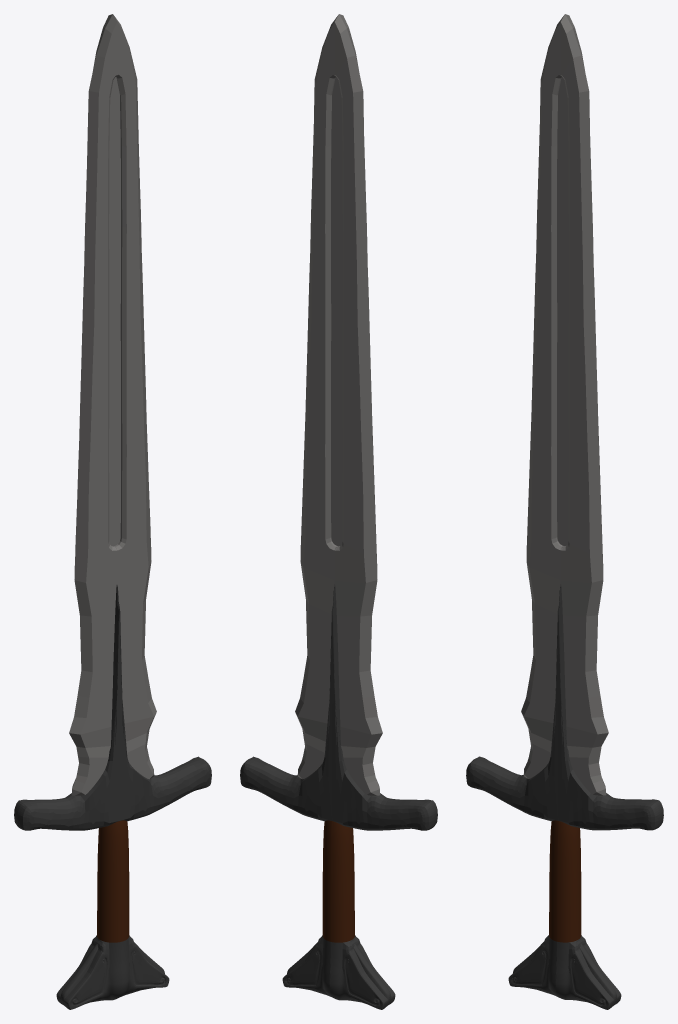
Rendered from Sword.fbx.
3 renders of one model, left to right at view 1: azimuth 30°, elevation 25°; view 2: azimuth 150°, elevation 25°; view 3: azimuth 330°, elevation 25°, orthographic.
Parts seen in each view (by area): view 1: Blade, Hilt, Bottom, Handle, Sides; view 2: Blade, Hilt, Bottom, Handle, Sides; view 3: Blade, Hilt, Bottom, Handle, Sides.
Part boxes in pixels (x1=…): Blade: x1=69, y1=14, x2=156, y2=795; Hilt: x1=14, y1=585, x2=211, y2=830; Bottom: x1=56, y1=935, x2=169, y2=1009; Handle: x1=97, y1=820, x2=129, y2=942; Sides: x1=60, y1=940, x2=164, y2=1003; Blade: x1=295, y1=14, x2=382, y2=795; Hilt: x1=240, y1=585, x2=437, y2=830; Bottom: x1=282, y1=935, x2=395, y2=1009; Handle: x1=322, y1=820, x2=354, y2=942; Sides: x1=287, y1=940, x2=391, y2=1003; Blade: x1=521, y1=14, x2=608, y2=795; Hilt: x1=466, y1=584, x2=663, y2=830; Bottom: x1=508, y1=935, x2=621, y2=1009; Handle: x1=549, y1=820, x2=581, y2=942; Sides: x1=513, y1=938, x2=616, y2=1003.
Bounding box in the file's own units: 126 × 621 × 21.36.
